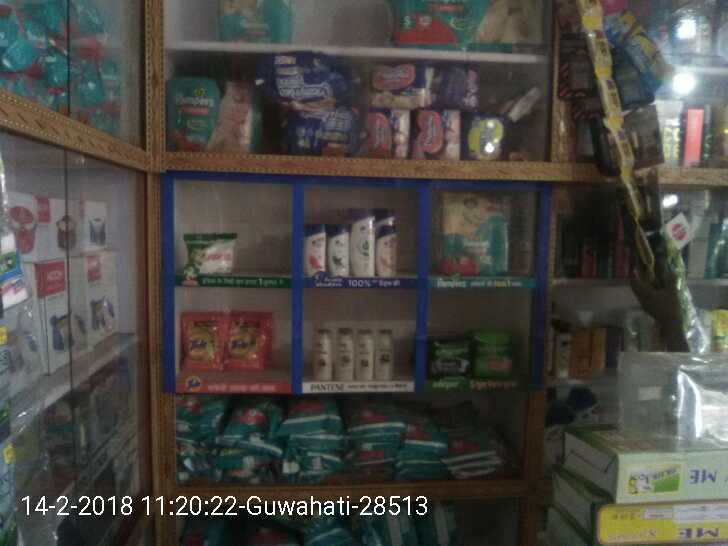gillete: (616, 14, 667, 89)
